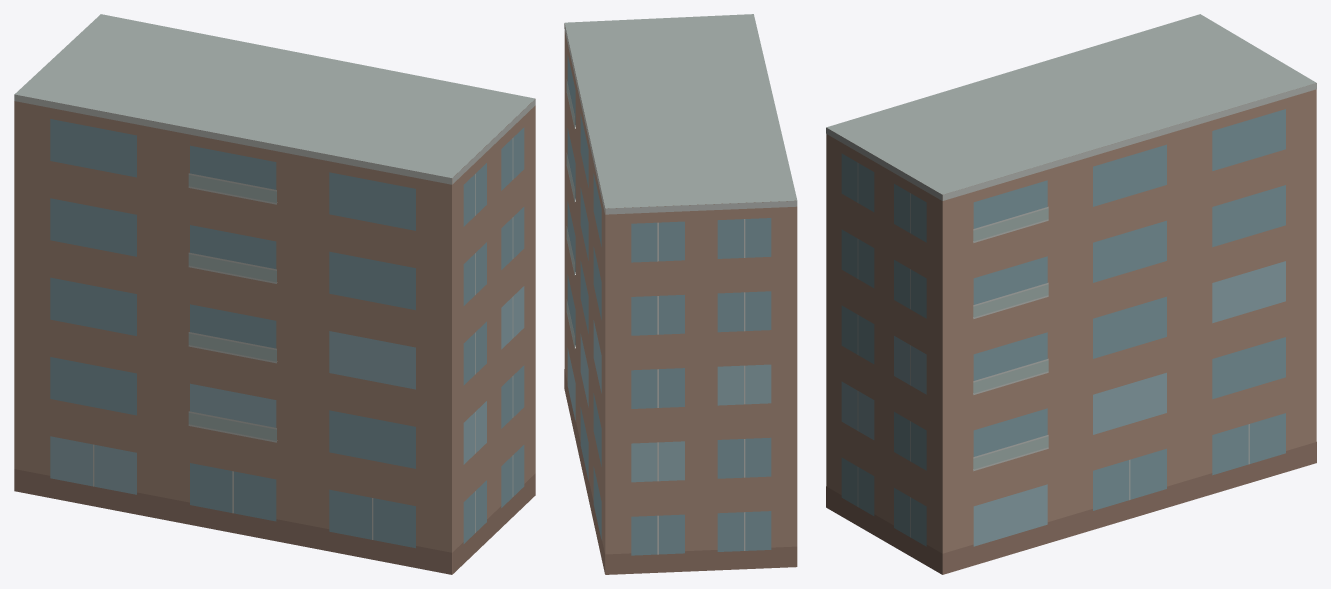
Rendered from survey-upis-32892103.glb.
3 renders of one model, left to right at view 1: azimuth 30°, elevation 25°; view 2: azimuth 150°, elevation 25°; view 3: azimuth 270°, elevation 25°, orthographic. The views are drawn at different scales.
Parts seen in each view (by area): view 1: survey-upis-32892103.tmp; view 2: survey-upis-32892103.tmp; view 3: survey-upis-32892103.tmp.
Part boxes in pixels (x1,y1,x2,y2): survey-upis-32892103.tmp: (14,14,535,574); survey-upis-32892103.tmp: (564,14,797,574); survey-upis-32892103.tmp: (826,14,1316,574).
Size of the model in its own units: 15 by 14.7 by 17.21.
